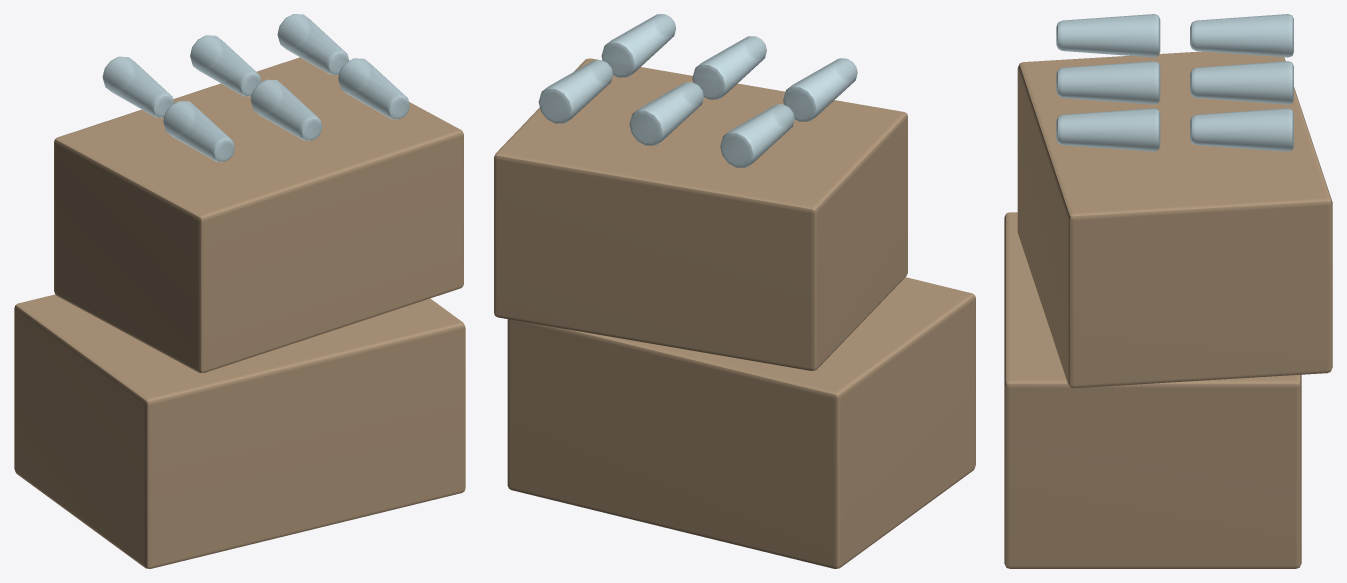
File: bottle_crates.glb
3 renders of one model, left to right at view 1: azimuth 30°, elevation 25°; view 2: azimuth 150°, elevation 25°; view 3: azimuth 270°, elevation 25°, orthographic. The views are drawn at different scales.
Parts seen in each view (by area): view 1: bottle_crates; view 2: bottle_crates; view 3: bottle_crates.
Part boxes in pixels (<box>): bottle_crates: <box>14,14,465,568</box>; bottle_crates: <box>494,14,975,568</box>; bottle_crates: <box>1004,14,1332,568</box>.
Bounding box in the file's own units: 0.5965 × 0.6494 × 0.4419.
